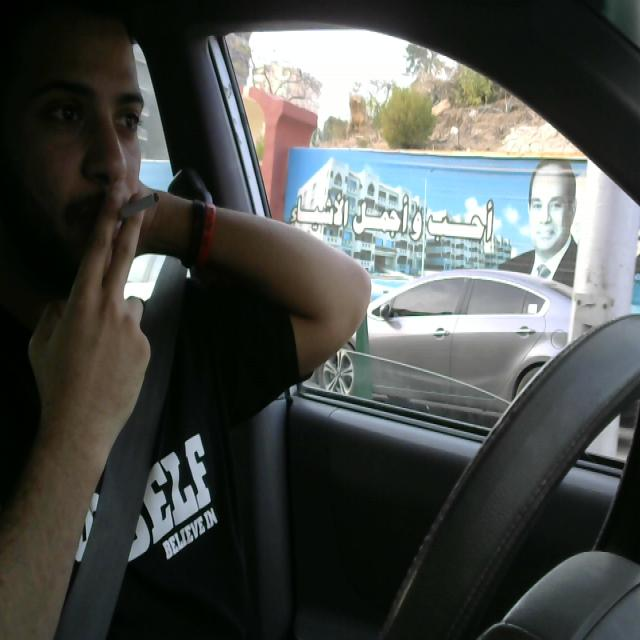smoking: (101, 188, 169, 228)
